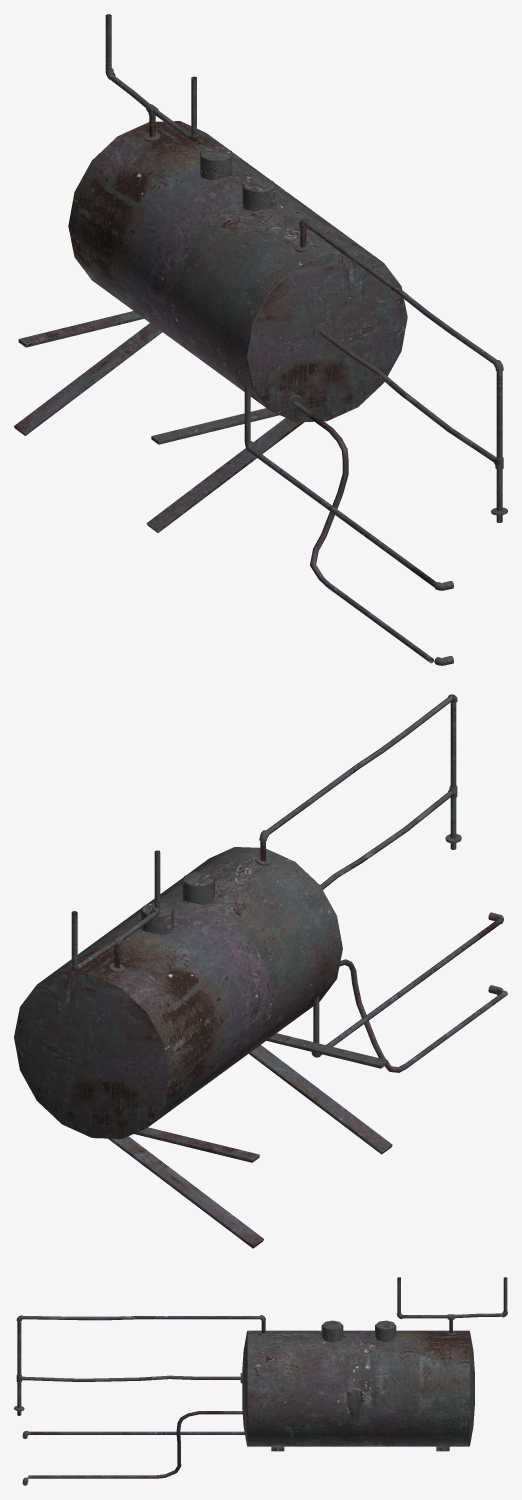
The model's file is SM_WaterTank.FBX.
3 views of the same model, one above another, from view 1: azimuth 30°, elevation 25°; view 2: azimuth 150°, elevation 25°; view 3: azimuth 270°, elevation 25° (orthographic). The views are drawn at different scales.
Visible parts, largest first — view 1: SM_WaterTank_LOD0; view 2: SM_WaterTank_LOD0; view 3: SM_WaterTank_LOD0.
Part boxes in pixels (x1=…): SM_WaterTank_LOD0: x1=14, y1=14, x2=507, y2=665; SM_WaterTank_LOD0: x1=14, y1=694, x2=507, y2=1248; SM_WaterTank_LOD0: x1=14, y1=1277, x2=507, y2=1485.
Size of what is drawn, in the model's own units: 135 by 198 by 401.
